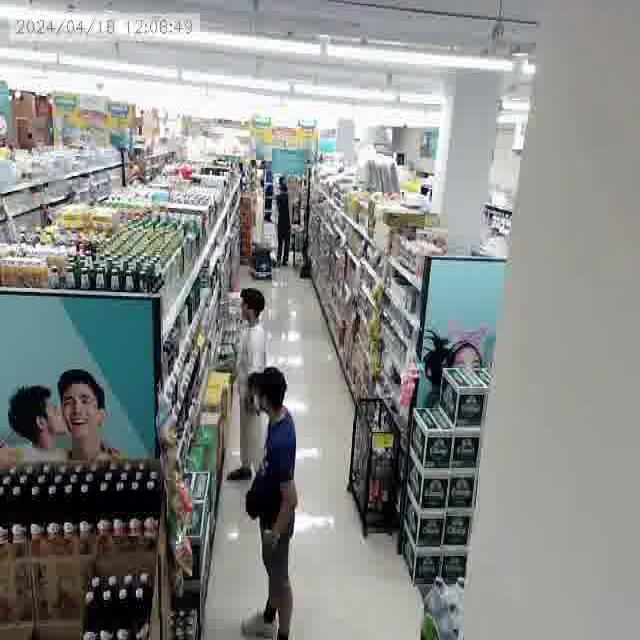shoplifting: (230, 356, 305, 640)
